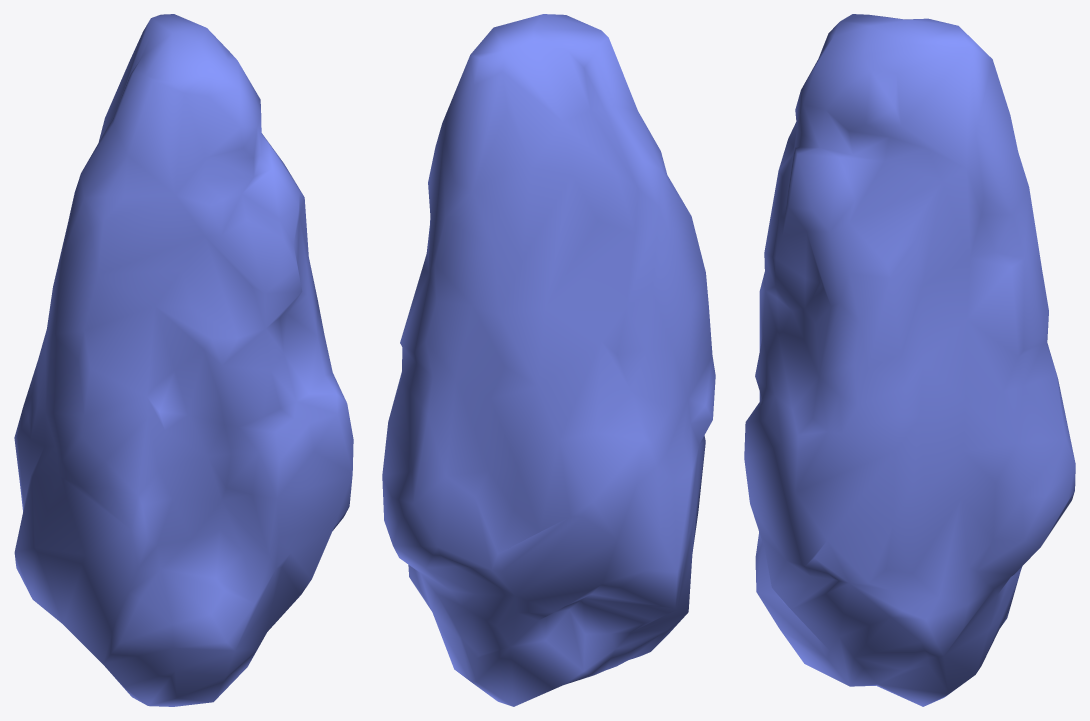
Rendered from Mesh_rock_3.fbx.
3 views of the same model, side by side, from view 1: azimuth 30°, elevation 25°; view 2: azimuth 150°, elevation 25°; view 3: azimuth 270°, elevation 25° (orthographic). The views are drawn at different scales.
Visible parts, largest first — view 1: Object003; view 2: Object003; view 3: Object003.
Part boxes in pixels (x1,y1,x2,y2): Object003: (14, 14, 353, 706); Object003: (382, 14, 715, 706); Object003: (744, 14, 1075, 706).
Bounding box in the file's own units: 5.42 × 11.96 × 5.38.
